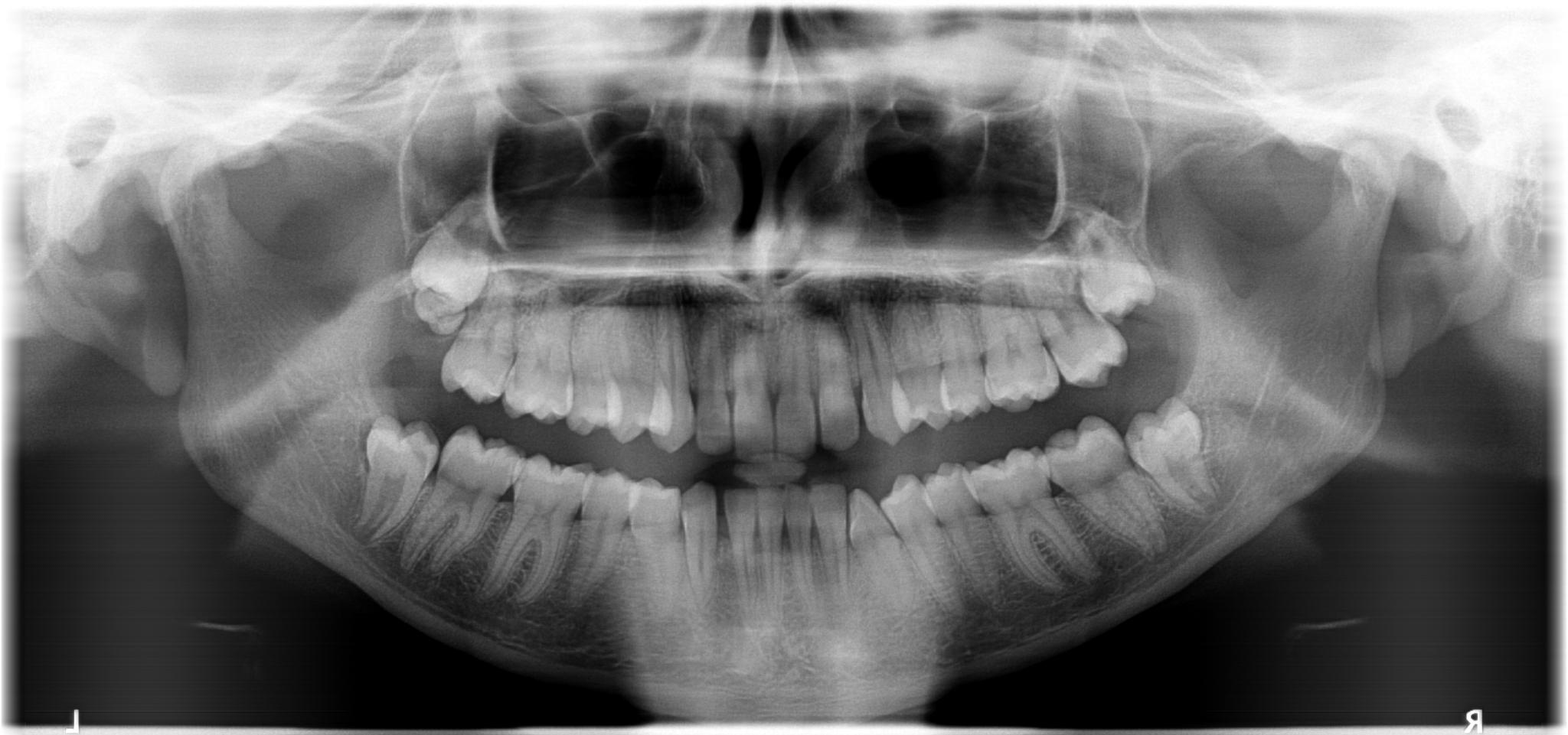Premolars: (532, 223, 1545, 669), (497, 215, 1564, 611), (608, 190, 1568, 602), (541, 171, 1568, 473), (268, 221, 841, 639), (228, 232, 655, 649), (204, 167, 655, 505)
